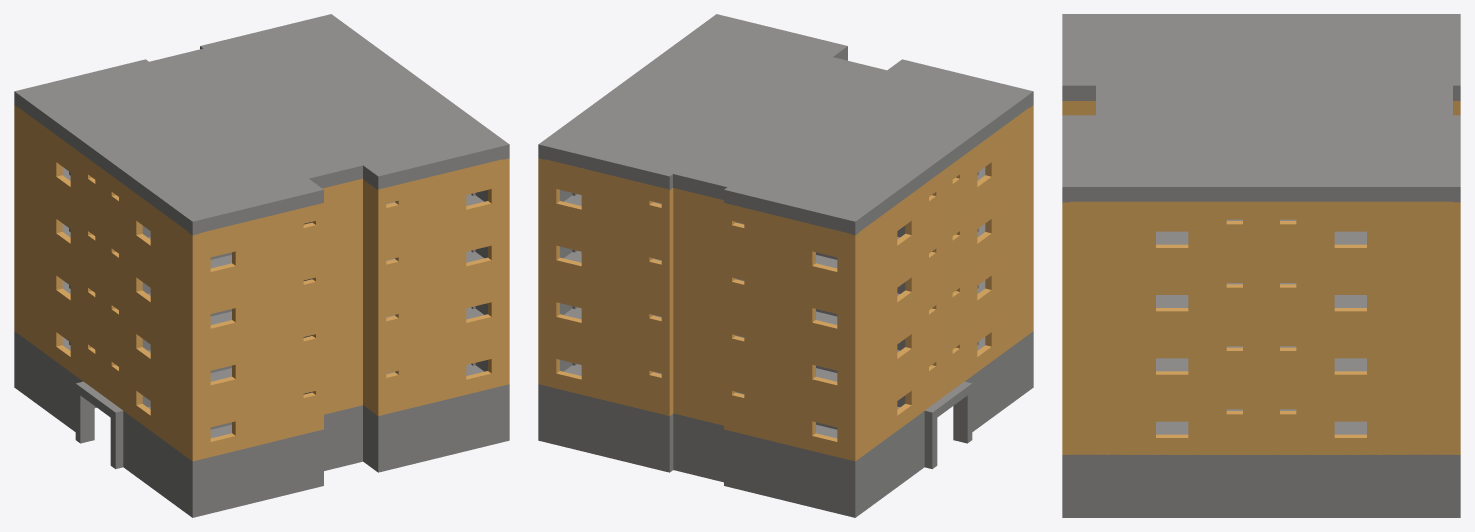
Rendered from Edifici.fbx.
3 views of the same model, side by side, from view 1: azimuth 30°, elevation 25°; view 2: azimuth 150°, elevation 25°; view 3: azimuth 270°, elevation 25° (orthographic). The views are drawn at different scales.
Parts seen in each view (by area): view 1: paret, techo, paret fuera, scal; view 2: paret, techo, paret fuera, scal; view 3: paret, techo, paret fuera, scal.
Boxes of the visible parts, x1=… form: paret: x1=14, y1=105, x2=509, y2=461; techo: x1=14, y1=14, x2=509, y2=235; paret fuera: x1=14, y1=331, x2=509, y2=517; scal: x1=62, y1=167, x2=483, y2=438; paret: x1=538, y1=60, x2=1033, y2=461; techo: x1=538, y1=14, x2=1033, y2=235; paret fuera: x1=538, y1=331, x2=1033, y2=517; scal: x1=564, y1=167, x2=985, y2=438; paret: x1=1062, y1=101, x2=1460, y2=454; techo: x1=1062, y1=14, x2=1460, y2=202; paret fuera: x1=1062, y1=454, x2=1460, y2=517; scal: x1=1156, y1=219, x2=1366, y2=434.
Size of the model in its own units: 2624 by 2310 by 2493.
